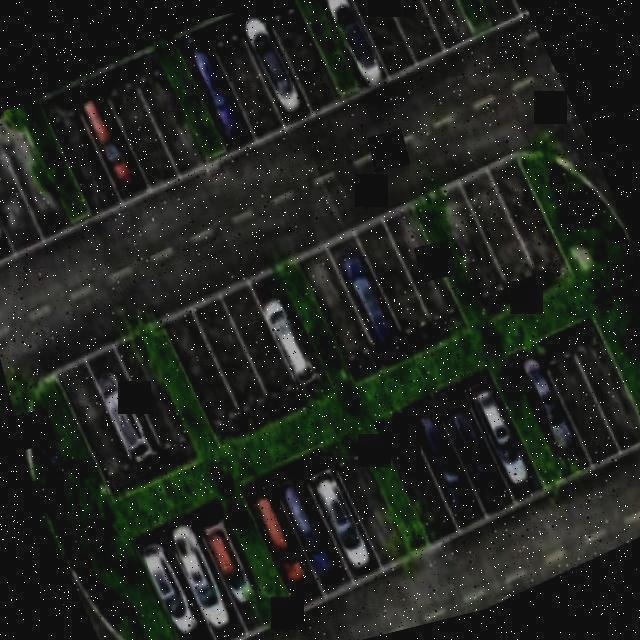space-empty: (496, 168, 569, 277), (226, 285, 285, 383), (384, 420, 441, 521), (68, 379, 129, 473), (126, 357, 186, 452), (0, 127, 59, 215), (340, 448, 393, 542), (226, 48, 282, 135), (371, 238, 422, 328), (443, 208, 496, 293), (314, 271, 363, 359), (583, 348, 633, 434), (180, 328, 231, 411), (208, 317, 259, 396), (478, 191, 528, 271), (54, 110, 105, 187), (118, 93, 169, 170), (399, 227, 447, 306), (150, 79, 196, 149), (557, 361, 601, 432), (358, 0, 404, 59), (281, 22, 324, 84), (0, 143, 28, 233), (391, 0, 433, 41), (413, 0, 459, 35)
space-occupied: (131, 521, 210, 640), (306, 458, 374, 580), (439, 385, 507, 501), (262, 284, 333, 393), (165, 511, 231, 627), (93, 355, 161, 467), (181, 35, 246, 142), (203, 510, 269, 612), (414, 399, 474, 507), (472, 384, 534, 487), (82, 92, 142, 190), (246, 23, 304, 121), (343, 246, 399, 346), (252, 489, 307, 589), (324, 0, 387, 81), (282, 490, 334, 572), (0, 145, 15, 261)
